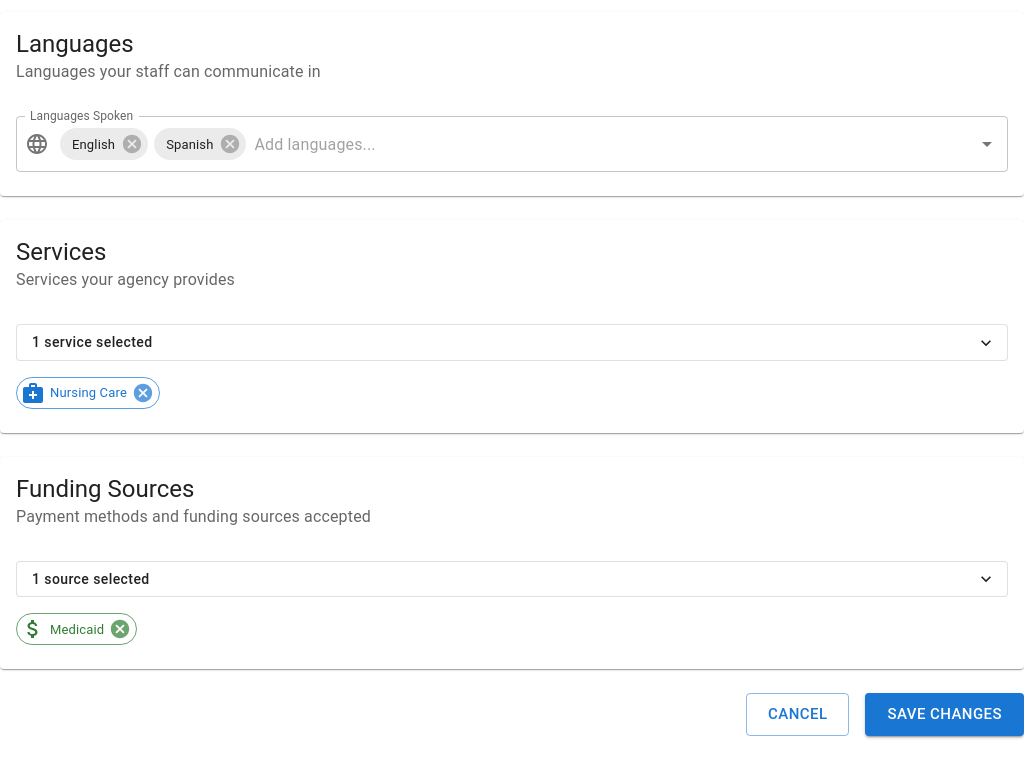
Test: Edit Agency Page - Component Tests › Funding Sources Selection › opens funding sources dropdown when button clicked
This screenshot has width=1036, height=768.
(page scrolled)
Click the button "1 source selected" at (91, 579), box [16, 561, 1008, 598]
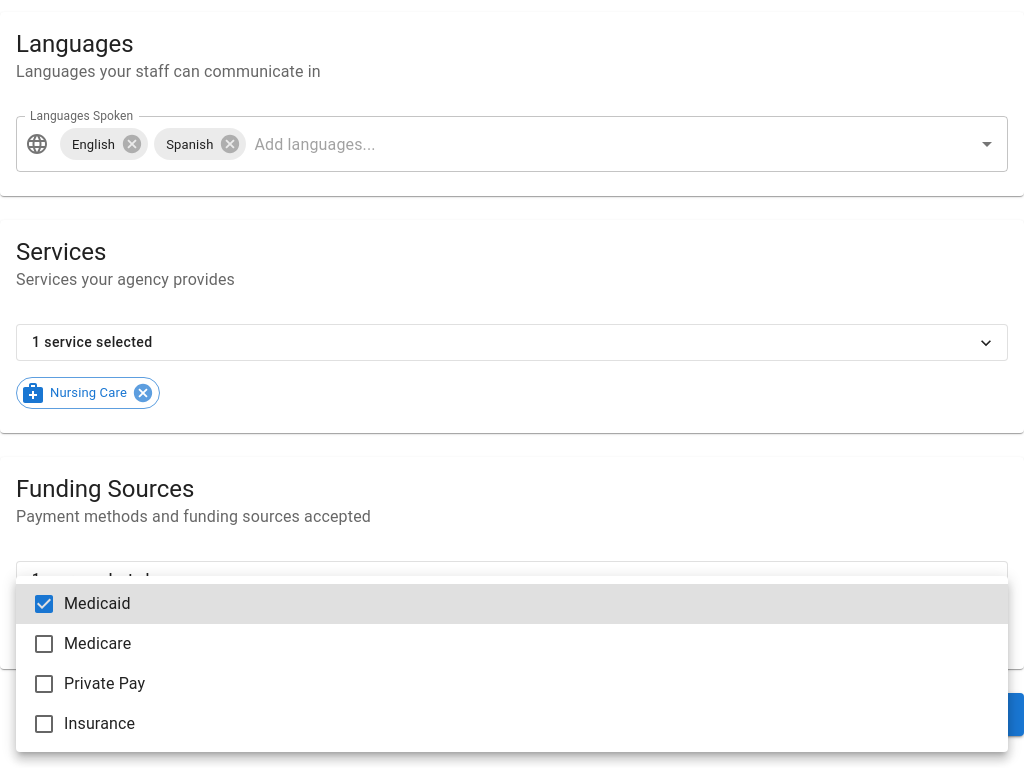
Expected: the menu item "Medicare" is shown, [32, 632, 131, 656]
